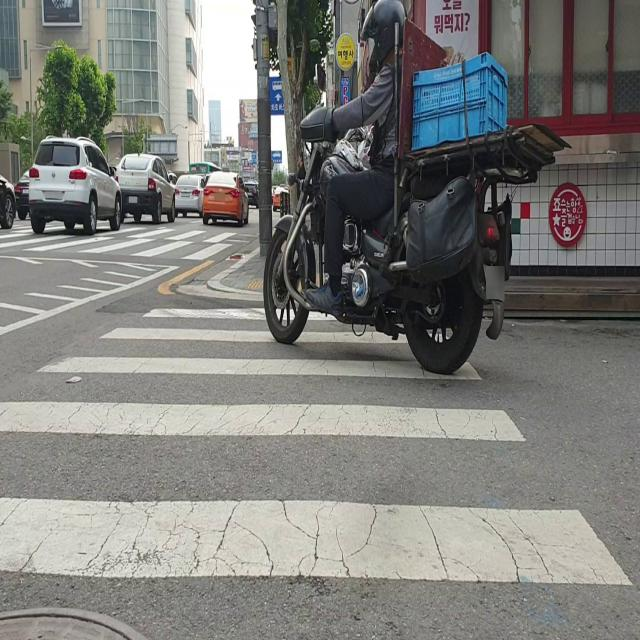횡단보도: (0, 298, 636, 594), (1, 224, 237, 266)
